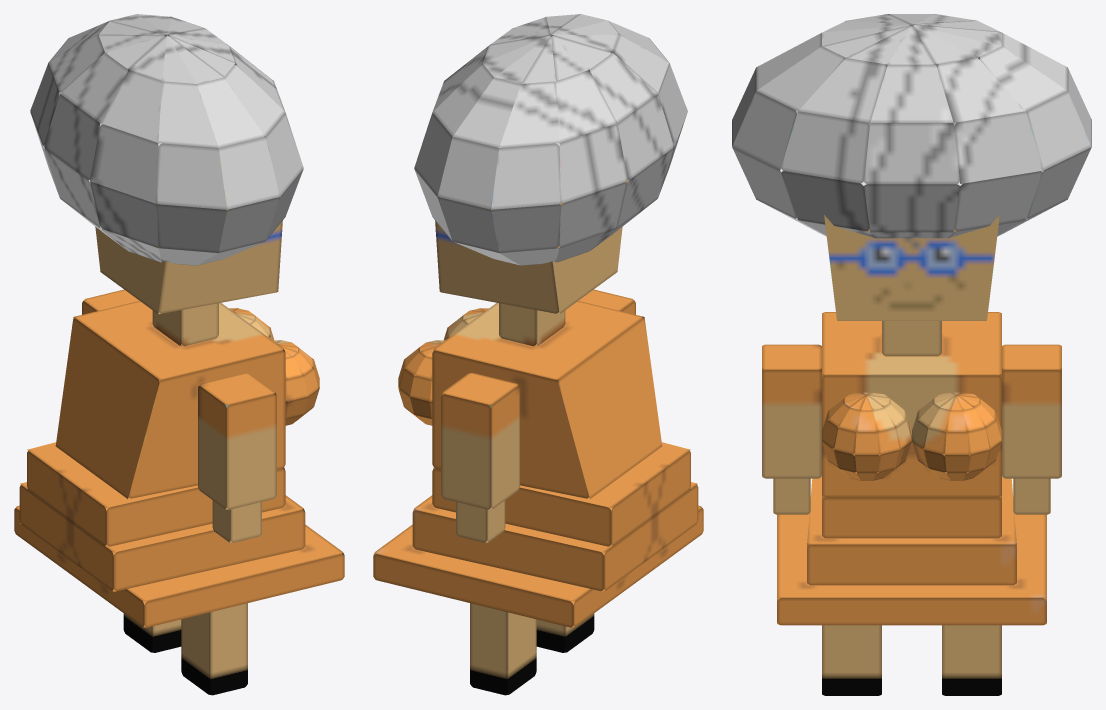
File: grandma.fbx
The picture shows the model from 3 angles, left to right: view 1: azimuth 30°, elevation 25°; view 2: azimuth 150°, elevation 25°; view 3: azimuth 270°, elevation 25°; orthographic projection. The views are drawn at different scales.
Visible parts, largest first — view 1: sphere_2, cuboid_3, cuboid_1, cuboid, cuboid_2, cuboid_8, cuboid_5, cuboid_11, sphere_1, cuboid_4, cuboid_9, cuboid_10 (+1 smaller); view 2: sphere_2, cuboid_3, cuboid_1, cuboid, cuboid_2, cuboid_6, cuboid_5, cuboid_10, sphere, cuboid_4, cuboid_7, cuboid_11 (+1 smaller); view 3: sphere_2, cuboid_3, cuboid, cuboid_5, cuboid_1, cuboid_6, cuboid_8, cuboid_2, sphere, sphere_1, cuboid_10, cuboid_11 (+3 smaller).
Part boxes in pixels (x1,y1,x2,y2): sphere_2: [30, 14, 303, 265]; cuboid_3: [55, 301, 285, 498]; cuboid_1: [19, 482, 305, 591]; cuboid: [14, 505, 344, 627]; cuboid_2: [27, 442, 285, 546]; cuboid_8: [198, 373, 276, 509]; cuboid_5: [90, 143, 282, 314]; cuboid_11: [181, 603, 247, 695]; sphere_1: [273, 340, 319, 425]; cuboid_4: [152, 303, 218, 346]; cuboid_9: [212, 500, 261, 542]; cuboid_10: [123, 613, 181, 652]; sphere_2: [414, 14, 687, 265]; cuboid_3: [432, 301, 662, 498]; cuboid_1: [412, 482, 698, 591]; cuboid: [373, 505, 703, 627]; cuboid_2: [432, 442, 690, 546]; cuboid_6: [441, 373, 519, 509]; cuboid_5: [435, 143, 627, 314]; cuboid_10: [470, 603, 536, 695]; sphere: [398, 340, 444, 425]; cuboid_4: [499, 303, 565, 346]; cuboid_7: [456, 500, 505, 542]; cuboid_11: [536, 613, 594, 652]; sphere_2: [732, 14, 1091, 238]; cuboid_3: [822, 312, 1001, 497]; cuboid: [777, 514, 1046, 625]; cuboid_5: [824, 181, 999, 320]; cuboid_1: [807, 477, 1016, 585]; cuboid_6: [1002, 344, 1061, 478]; cuboid_8: [762, 344, 821, 478]; cuboid_2: [822, 495, 1001, 538]; sphere: [912, 392, 1001, 480]; sphere_1: [822, 392, 911, 480]; cuboid_10: [942, 625, 1001, 695]; cuboid_11: [822, 625, 881, 695].
Size of the model in its own units: 112 by 300 by 150.
Materials: 1 (1 with a texture image).
